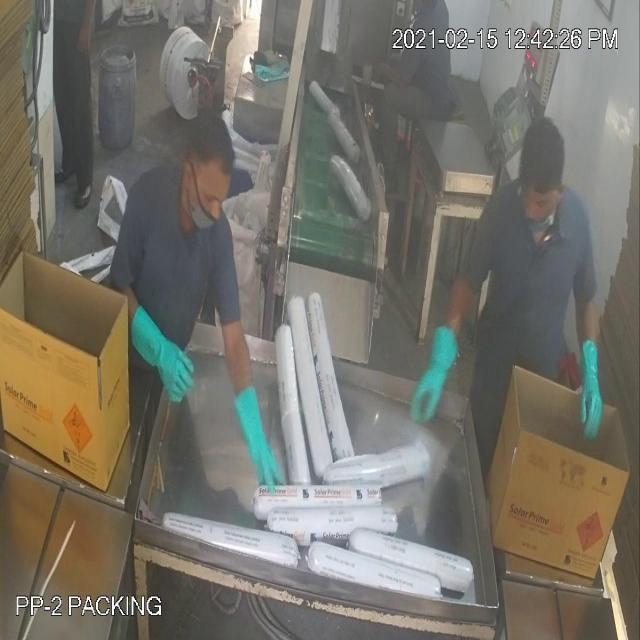Gloves: (42, 112, 593, 448)
